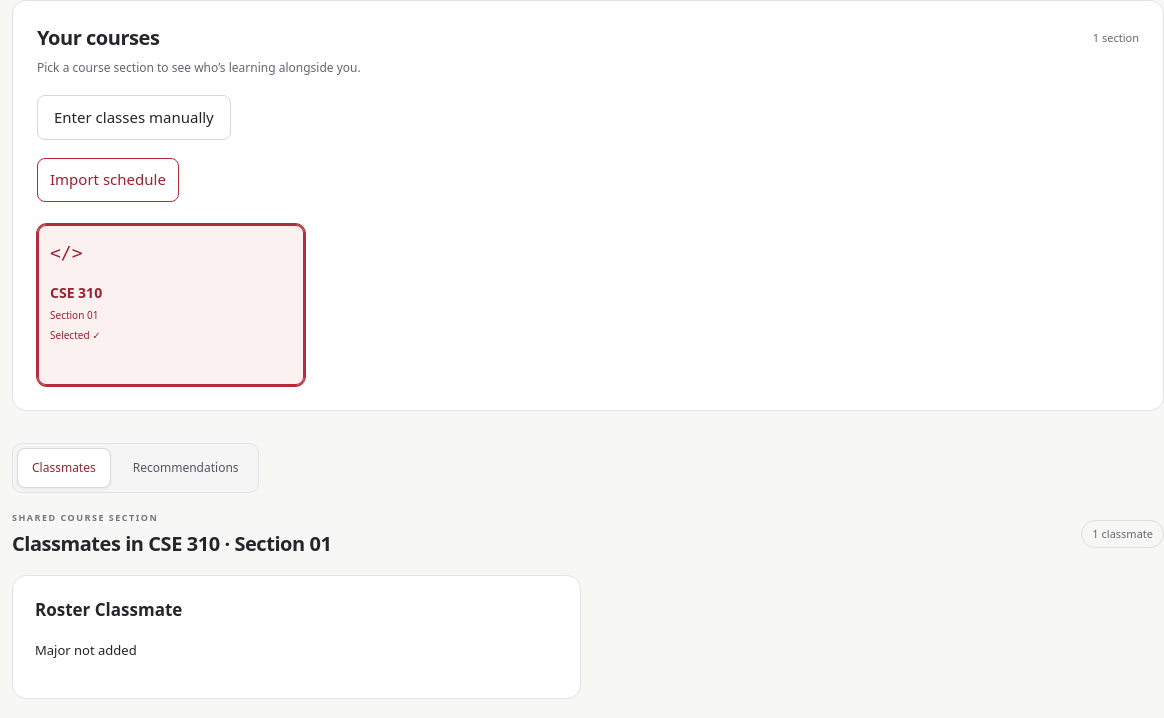
Test: course recommendation dashboard › offers a successful empty state when a course has no recommendable peers
Step 1. Click the button "Recommendations" → [186, 468], box [118,448,254,488]
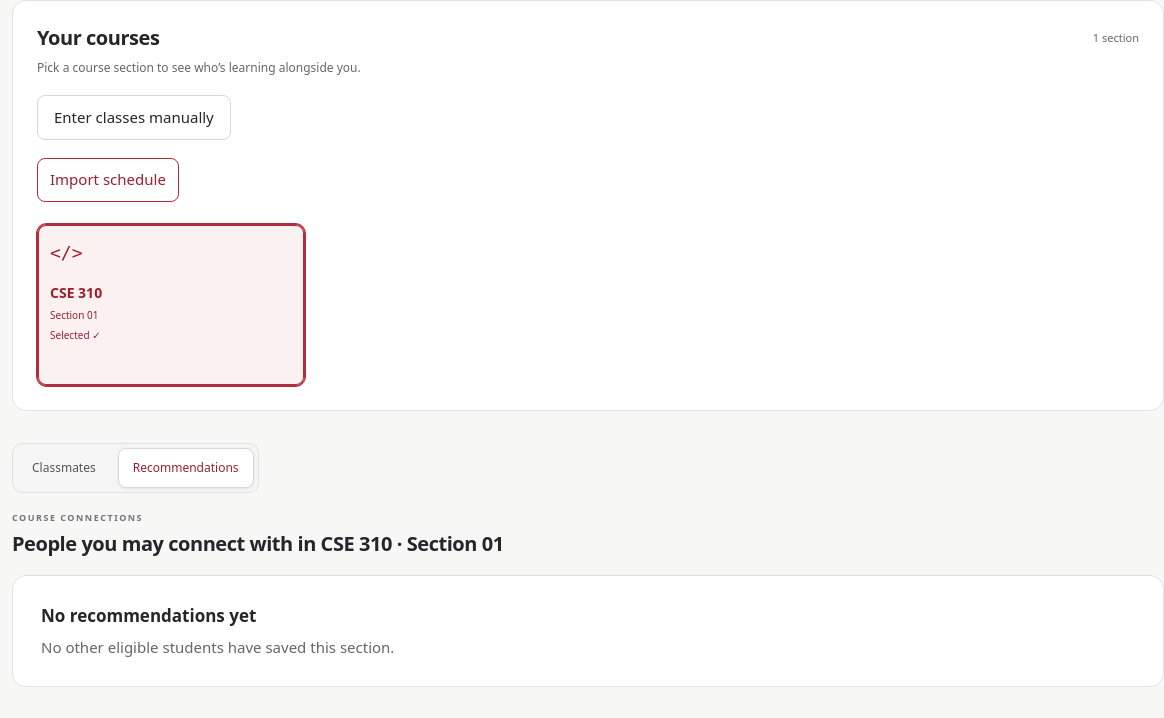
Expected: the heading "No recommendations yet" is shown, [41,604,256,627]
